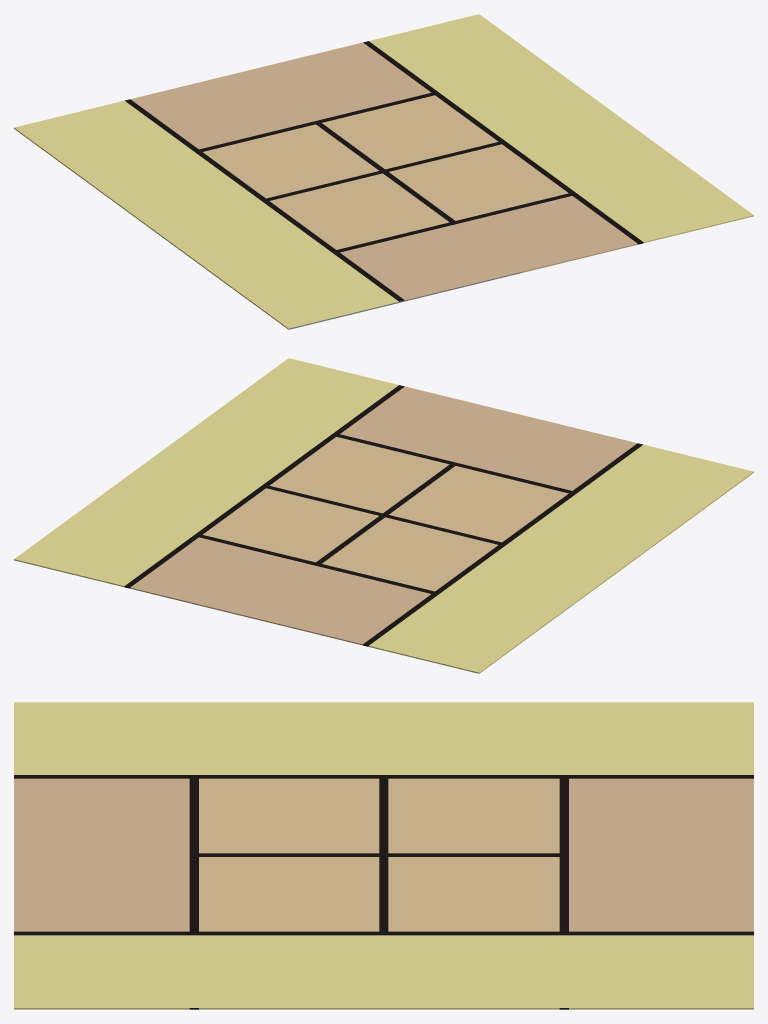
File: brokenFloor.FBX
3 views of the same model, one above another, from view 1: azimuth 30°, elevation 25°; view 2: azimuth 150°, elevation 25°; view 3: azimuth 270°, elevation 25° (orthographic). The views are drawn at different scales.
Visible parts, largest first — view 1: piece5, piece2, piece3, piece1, piece4; view 2: piece5, piece2, piece3, piece1, piece4; view 3: piece5, piece2, piece3, piece1, piece4.
Part boxes in pixels (x1,y1,x2,y2): piece5: (109,169,521,329); piece2: (80,14,538,171); piece3: (385,58,753,233); piece1: (14,111,373,198); piece4: (389,172,683,272); piece5: (380,415,753,603); piece2: (14,495,413,657); piece3: (74,358,382,517); piece1: (358,519,574,673); piece4: (359,375,520,512); piece5: (14,702,498,860); piece2: (388,745,753,1009); piece3: (14,857,592,1009); piece1: (388,702,753,849); piece4: (14,855,378,961).
Bounding box in the file's own units: 0.4693 × 0.00115 × 0.48.
